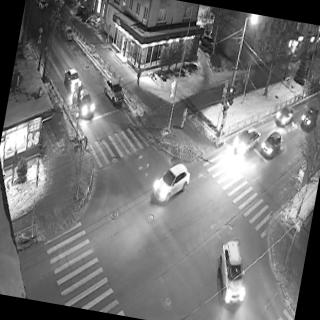small-vehicle: (150, 160, 192, 207), (233, 125, 261, 156), (260, 130, 284, 162), (74, 88, 97, 120), (100, 78, 126, 106), (62, 66, 84, 95), (275, 105, 295, 128), (301, 106, 319, 131), (200, 33, 217, 50), (62, 26, 74, 43), (37, 0, 48, 13)
